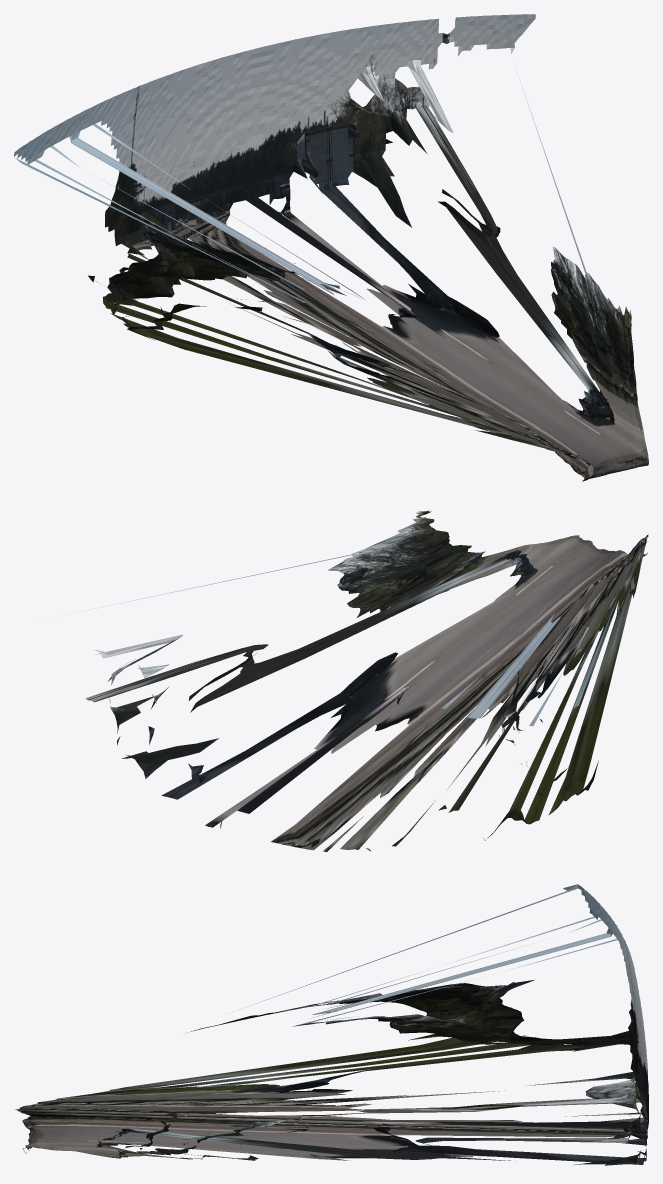
3 views of the same model, one above another, from view 1: azimuth 30°, elevation 25°; view 2: azimuth 150°, elevation 25°; view 3: azimuth 270°, elevation 25° (orthographic). The views are drawn at different scales.
Parts seen in each view (by area): view 1: defaultobject; view 2: defaultobject; view 3: defaultobject.
Boxes of the visible parts, x1,y1,x2,y2 form: defaultobject: (14,14,648,481); defaultobject: (59,510,648,852); defaultobject: (15,884,648,1165).
Size of the model in its own units: 37.72 by 12.42 by 45.21.
1 material, 1 textured.
